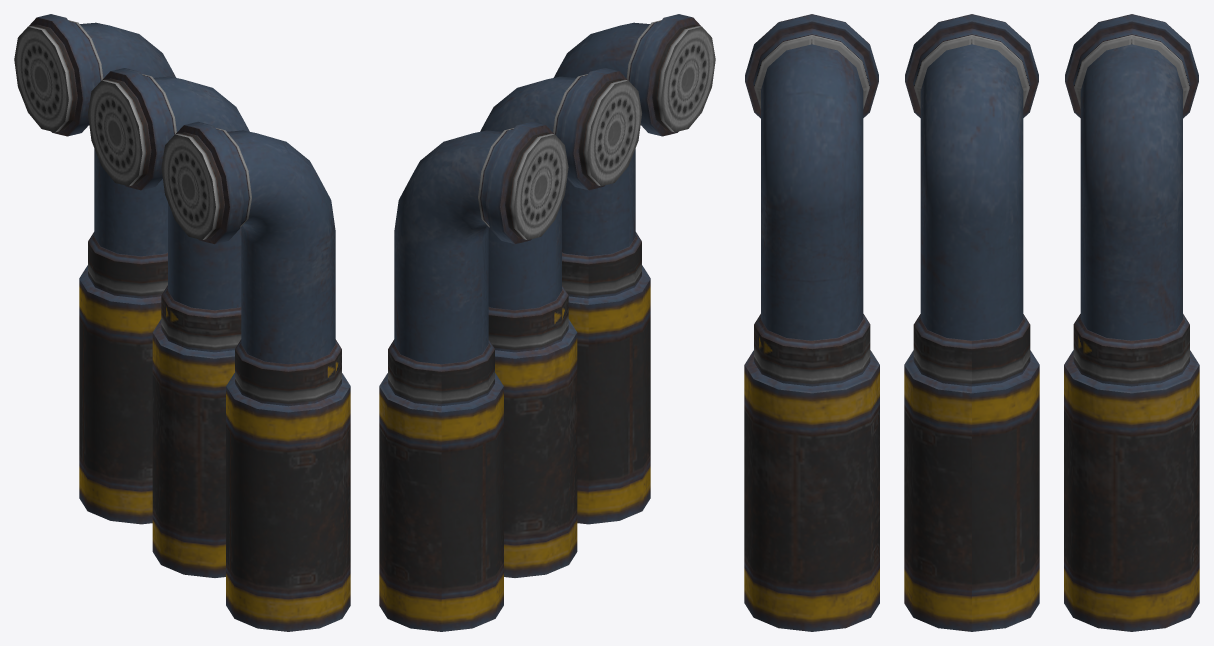
The model's file is Pipe3_End1_L0.fbx.
3 renders of one model, left to right at view 1: azimuth 30°, elevation 25°; view 2: azimuth 150°, elevation 25°; view 3: azimuth 270°, elevation 25°, orthographic. The views are drawn at different scales.
Parts seen in each view (by area): view 1: PIpe5_End1_L0; view 2: PIpe5_End1_L0; view 3: PIpe5_End1_L0.
Boxes of the visible parts, x1=… form: PIpe5_End1_L0: x1=14, y1=14, x2=350, y2=631; PIpe5_End1_L0: x1=379, y1=14, x2=715, y2=631; PIpe5_End1_L0: x1=744, y1=14, x2=1199, y2=631.
Size of the model in its own units: 20.11 by 62.29 by 47.39.
